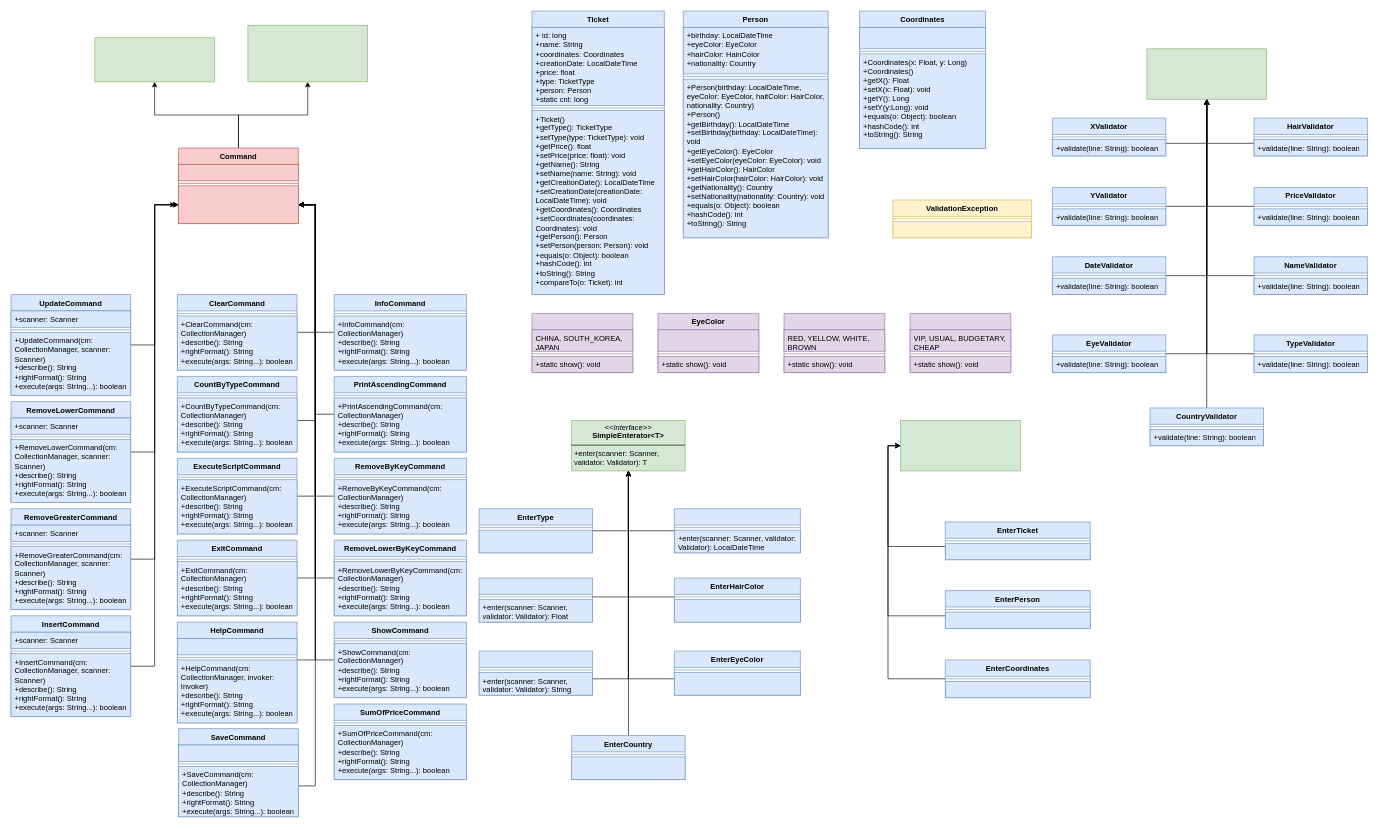
Some shapes in this 1378 by 830 pixel diagram are drawn without their labels. The box of each missing label's shape, as (x1, y1, x2, y2) in pixels:
+cm: CollectionManager: (178, 164, 298, 181)
+Command(cm: CollectionManager) +getCm(): CollectionManager: (178, 185, 298, 224)
+enter(scanner: Scanner): Coordinates: (945, 681, 1090, 698)
+enter(scanner: Scanner): Person: (945, 611, 1090, 628)
+enter(scanner: Scanner): Ticket: (945, 543, 1090, 560)
+enter(scanner: Scanner, validator: Validator): Country: (571, 756, 685, 780)
+enter(scanner: Scanner, validator: Validator): EyeColor: (674, 672, 800, 695)
+enter(scanner: Scanner, validator: Validator): HairColor: (674, 599, 800, 622)
+enter(scanner: Scanner, validator: Validator): TicketType: (478, 530, 593, 553)
+gson: Gson: (178, 744, 298, 761)
+invoker: Invoker: (177, 638, 297, 655)
+ValidationException(massege: String): (892, 221, 1032, 238)
+x: Float +y: Long: (859, 27, 986, 49)
<<Interface>> ComplexEnterator<T> +enter(scanner: Scanner): T: (900, 420, 1020, 471)
<<Interface>> Describable +describe(): String +rightFormat(): String: (247, 25, 368, 82)
<<Interface>> Executable +execute(args: String...): boolean: (94, 37, 215, 82)
<<Interface>> Validator +validate(line: String): boolean: (1146, 48, 1267, 99)
BLACK, YELLOW, ORANGE, WHITE, BROWN: (657, 329, 759, 351)
Country: (531, 313, 633, 373)
EnterLocalDateTime: (674, 508, 800, 553)
EnterName: (478, 650, 593, 695)
EnterPrice: (478, 577, 593, 622)
HairColor: (783, 313, 885, 373)
TicketType: (909, 313, 1011, 373)
